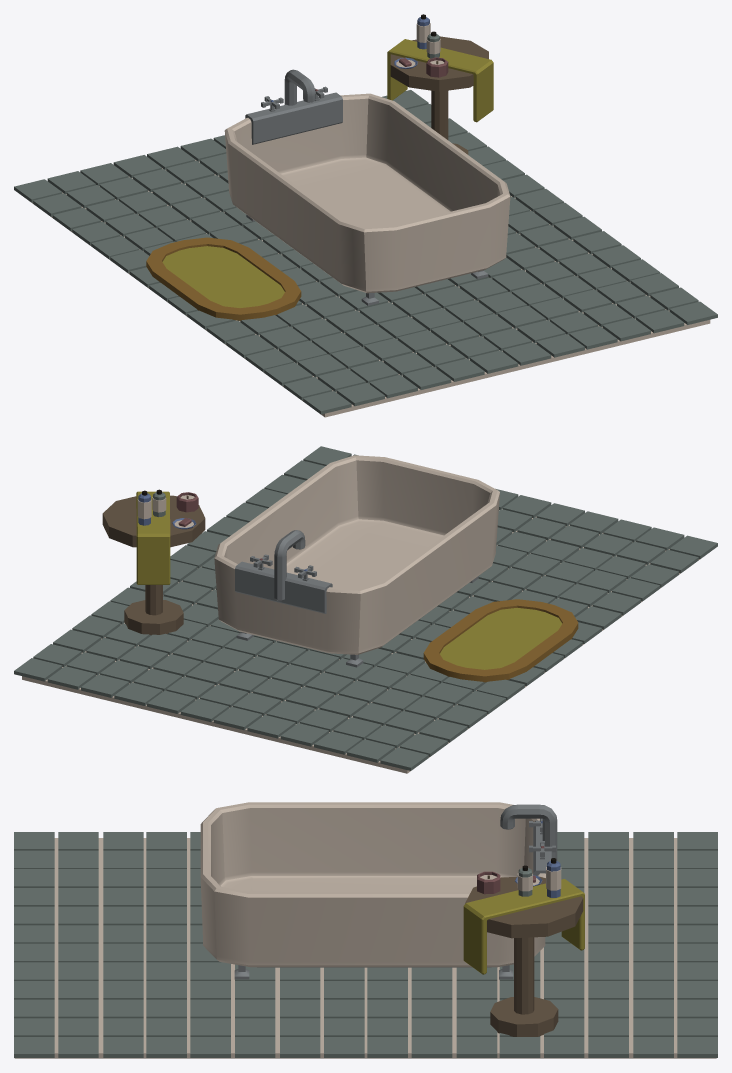
The model's file is Tub_Scenery.fbx.
The picture shows the model from 3 angles, top to bottom: view 1: azimuth 30°, elevation 25°; view 2: azimuth 150°, elevation 25°; view 3: azimuth 270°, elevation 25°; orthographic projection. The views are drawn at different scales.
Parts seen in each view (by area): view 1: Tub, Rug, pCylinder4, pCube9, pCube213, pCube209, Faucet, pCube22, pCube106, pCube48, pCube64, pCube94 (+88 smaller); view 2: Tub, Rug, pCylinder4, pCube9, pCube213, pCube209, Faucet, pCube172, pCube159, pCube182, pCube140, pCube156 (+85 smaller); view 3: Tub, pCube209, pCylinder4, pCube213, Faucet, pCube119, pCube120, pCube133, pCube112, pCube110, pCube108, pCube129 (+125 smaller).
Boxes of the visible parts, x1,y1,x2,y2 form: Tub: [224, 93, 510, 293]; Rug: [146, 237, 301, 320]; pCylinder4: [390, 36, 488, 154]; pCube9: [245, 92, 342, 144]; pCube213: [387, 39, 493, 122]; pCube209: [32, 160, 710, 417]; Faucet: [284, 69, 315, 105]; pCube22: [303, 391, 351, 414]; pCube106: [536, 334, 584, 357]; pCube48: [403, 366, 451, 389]; pCube64: [470, 350, 518, 373]; pCube94: [602, 318, 650, 341]; Tub: [214, 455, 499, 654]; Rug: [423, 599, 578, 682]; pCylinder4: [102, 495, 205, 635]; pCube9: [235, 561, 332, 613]; pCube213: [136, 491, 170, 584]; pCube209: [22, 509, 699, 773]; Faucet: [274, 530, 305, 601]; pCube172: [380, 747, 428, 770]; pCube159: [147, 690, 195, 713]; pCube182: [280, 723, 328, 746]; pCube140: [14, 658, 62, 681]; pCube156: [81, 674, 129, 697]; Tub: [200, 802, 545, 967]; pCube209: [14, 838, 716, 1058]; pCylinder4: [465, 876, 583, 1036]; pCube213: [463, 879, 584, 974]; Faucet: [500, 804, 557, 860]; pCube119: [456, 1037, 497, 1057]; pCube120: [499, 1037, 540, 1057]; pCube133: [411, 1037, 452, 1057]; pCube112: [146, 1037, 186, 1057]; pCube110: [58, 1037, 98, 1057]; pCube108: [190, 1037, 230, 1057]; pCube129: [544, 1037, 584, 1057].
Size of the model in its own units: 978 by 350 by 1309.
